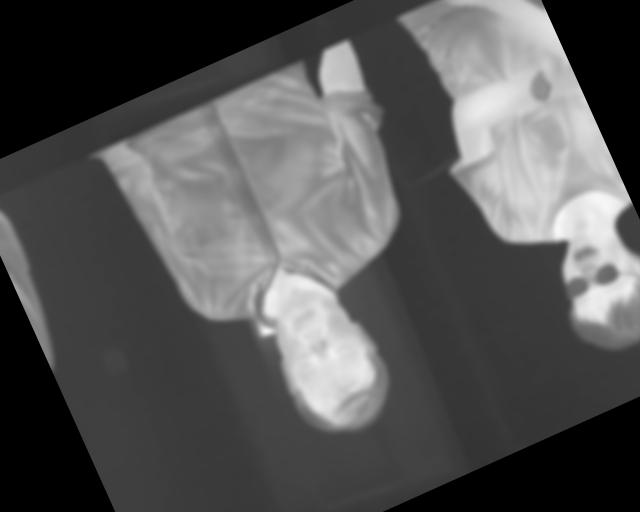face: (252, 270, 407, 452), (541, 210, 640, 365)
